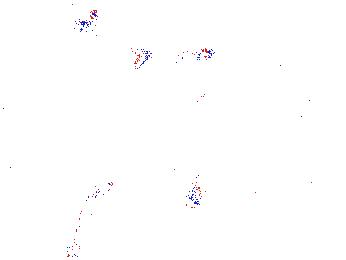X-ray fish: (149, 166, 204, 210)
glassfish: (69, 161, 124, 248), (194, 132, 275, 181)
red belly glassfish: (168, 86, 209, 100), (81, 9, 99, 28)
redtail glassfish: (128, 42, 216, 70)
